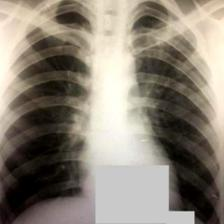tuberculosis: (2, 3, 222, 224)
